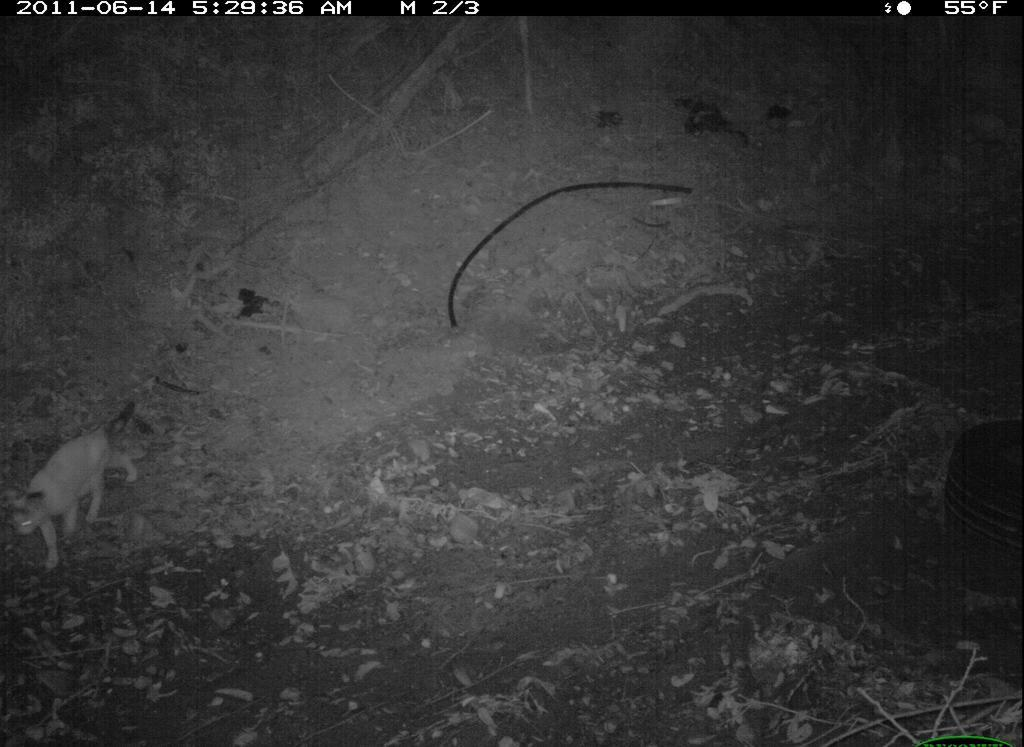cat: (1, 390, 158, 574)
